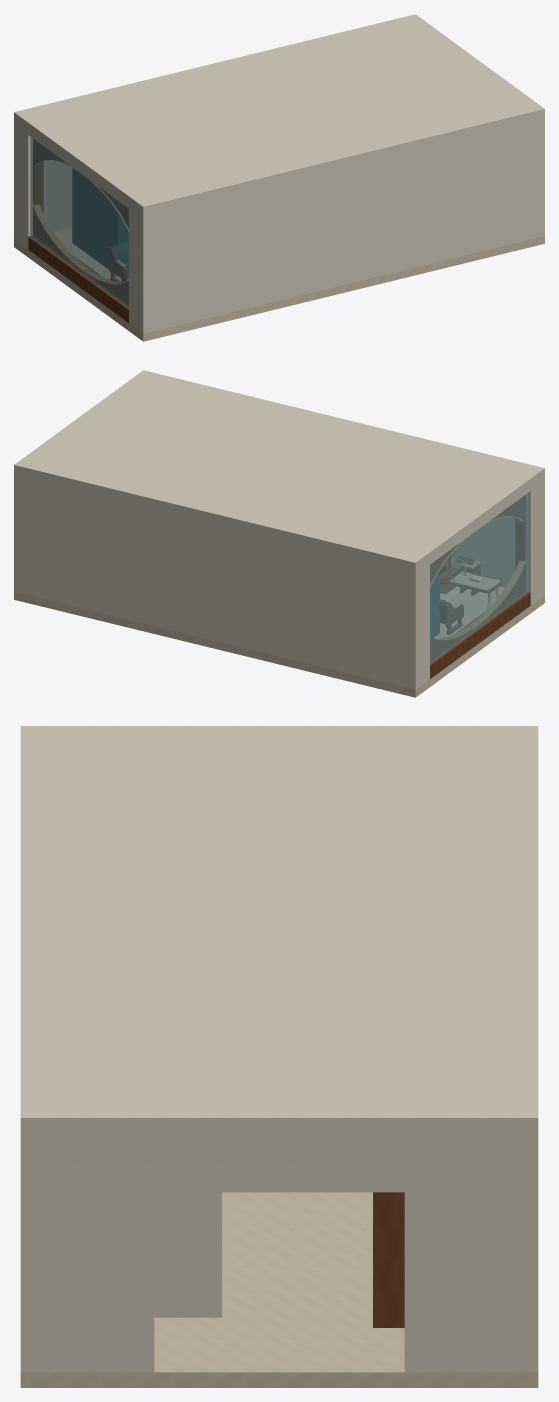
File: QuietGroveBank_117_r001.glb
3 views of the same model, one above another, from view 1: azimuth 30°, elevation 25°; view 2: azimuth 150°, elevation 25°; view 3: azimuth 270°, elevation 25° (orthographic). The views are drawn at different scales.
Visible parts, largest first — view 1: QG117_Ceiling, QG117_SouthSide, QGB117_PrivateCourtGlass, QG117_RoomFloor, QG117_Cocoon_RearLiner, QGB117_CourtSouthPier, QGB117_CourtNorthPier, QG117_NorthSide, QGB117_CourtSill, QG117_OvalWindowReveal, QG117_OvalDepthReturn, QGB117_CourtHeader (+1 smaller); view 2: QG117_Ceiling, QG117_NorthSide, QGB117_PrivateCourtGlass, QG117_RoomFloor, QG117_SouthSide, QGB117_CourtNorthPier, QGB117_CourtSouthPier, QGB117_CourtSill, QG117_OvalWindowReveal, QG117_OvalDepthReturn, QGB117_CourtHeader, QGB117_DeepReveal_-295.59999999999997 (+2 smaller); view 3: QG117_Ceiling, QG117_RoomFloor, QG117_EntryShoulderNorth, QG117_EntryShoulderSouth, QG117_EntryHeader, QG117_WashEntrySide, QG117_EntryPrivacyDogleg, QG117_NorthSide, QG117_SouthSide.
Part boxes in pixels (x1,y1,x2,y2): QG117_Ceiling: (14, 14, 544, 211); QG117_SouthSide: (141, 114, 544, 333); QGB117_PrivateCourtGlass: (30, 137, 128, 308); QG117_RoomFloor: (14, 227, 544, 341); QG117_Cocoon_RearLiner: (73, 169, 116, 274); QGB117_CourtSouthPier: (129, 202, 150, 333); QGB117_CourtNorthPier: (14, 119, 32, 249); QG117_NorthSide: (14, 118, 71, 240); QGB117_CourtSill: (28, 236, 128, 322); QG117_OvalWindowReveal: (35, 140, 128, 304); QG117_OvalDepthReturn: (32, 160, 128, 283); QGB117_CourtHeader: (28, 128, 128, 208); QG117_Ceiling: (14, 370, 544, 567); QG117_NorthSide: (14, 470, 417, 689); QGB117_PrivateCourtGlass: (430, 492, 528, 664); QG117_RoomFloor: (14, 586, 544, 697); QG117_SouthSide: (447, 474, 544, 594); QGB117_CourtNorthPier: (408, 558, 429, 689); QGB117_CourtSouthPier: (526, 474, 544, 605); QGB117_CourtSill: (430, 592, 530, 678); QG117_OvalWindowReveal: (430, 496, 523, 660); QG117_OvalDepthReturn: (430, 516, 526, 639); QGB117_CourtHeader: (430, 484, 530, 564); QGB117_DeepReveal_-295.59999999999997: (515, 495, 525, 591); QG117_Ceiling: (20, 726, 538, 1128); QG117_RoomFloor: (20, 1192, 538, 1387); QG117_EntryShoulderNorth: (404, 1128, 529, 1372); QG117_EntryShoulderSouth: (29, 1128, 154, 1372); QG117_EntryHeader: (150, 1128, 408, 1192); QG117_WashEntrySide: (154, 1192, 221, 1317); QG117_EntryPrivacyDogleg: (373, 1192, 404, 1327); QG117_NorthSide: (529, 1128, 538, 1372); QG117_SouthSide: (20, 1128, 29, 1372).
Bounding box in the file's own units: 12.9 × 4.14 × 7.2.
Materials: 58 (43 with a texture image).
